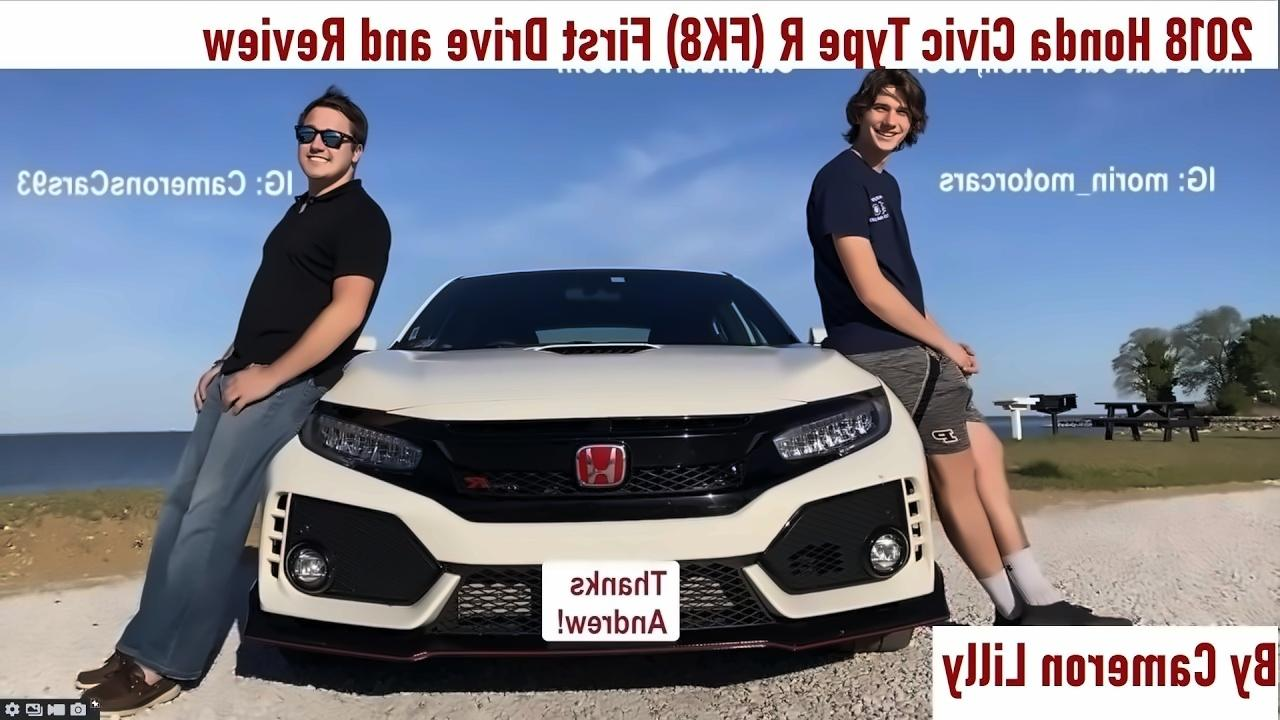Car hood: (317, 343, 882, 426)
Front bumper: (246, 447, 943, 650)
Headlight - -L-: (771, 383, 892, 464)
Headlight - -R-: (301, 399, 434, 482)
